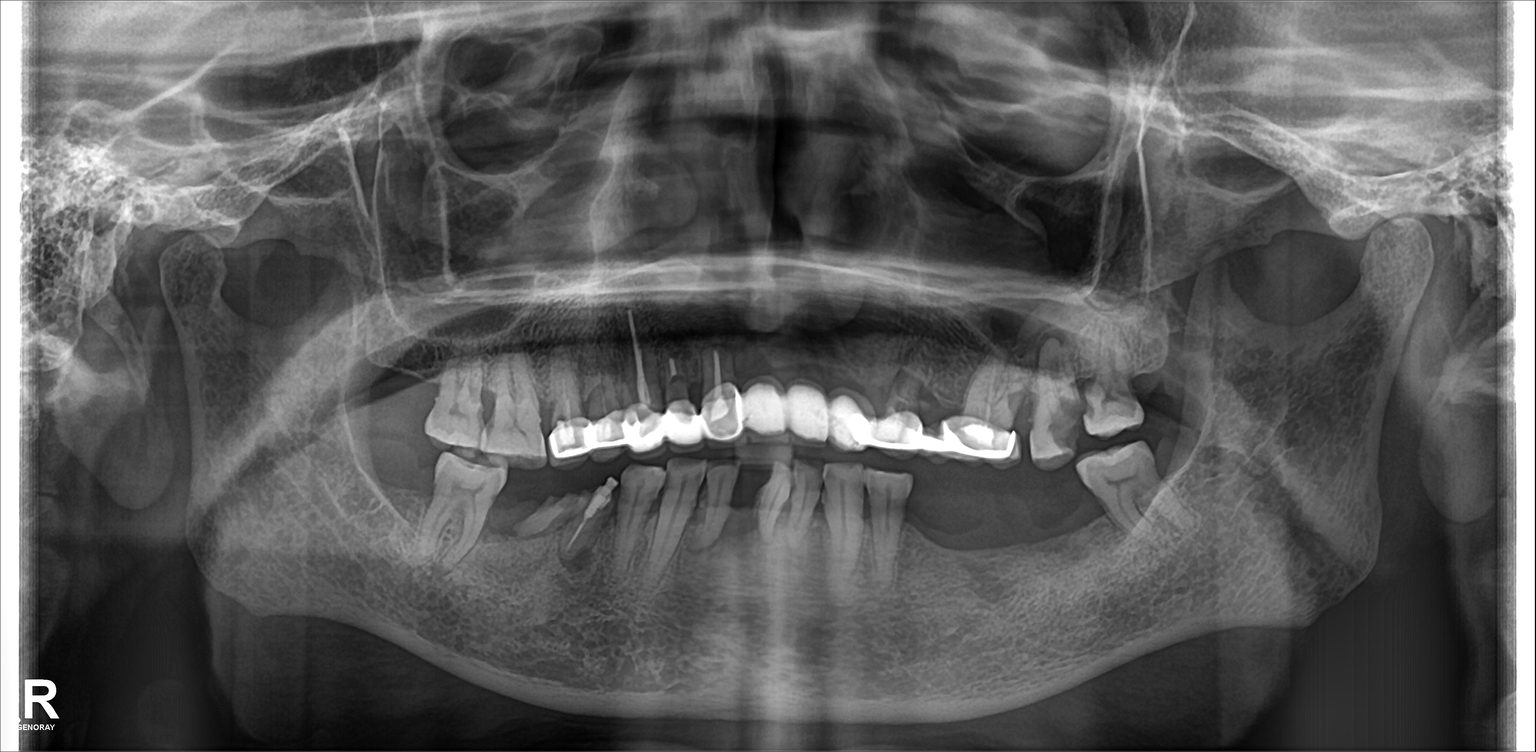Dental Caries: (1037, 398, 1082, 441)
Endodontically Treated Tooth: (626, 329, 666, 453), (877, 367, 928, 453), (953, 374, 1009, 451), (581, 354, 626, 447), (549, 348, 587, 457), (700, 348, 745, 438), (778, 352, 824, 439), (823, 359, 861, 457), (743, 354, 782, 435), (670, 352, 694, 439)
Missing Tooth: (348, 352, 426, 462), (1013, 488, 1056, 631), (970, 482, 1009, 596), (372, 478, 435, 542), (924, 478, 959, 591), (1060, 480, 1098, 573), (1134, 363, 1180, 428), (732, 471, 761, 547)
Retained Root: (570, 477, 618, 573), (529, 478, 572, 541)
